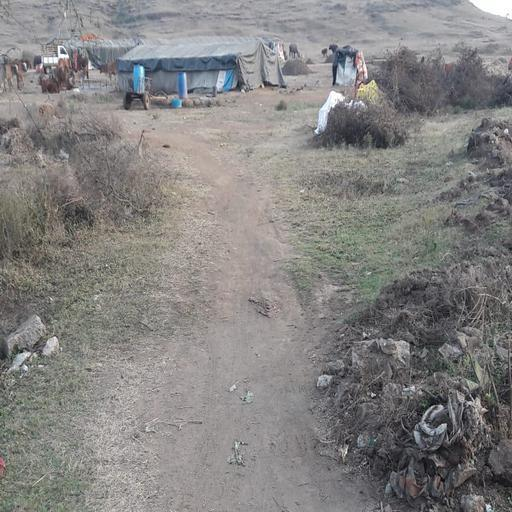vehicle_track: (155, 127, 370, 512)
